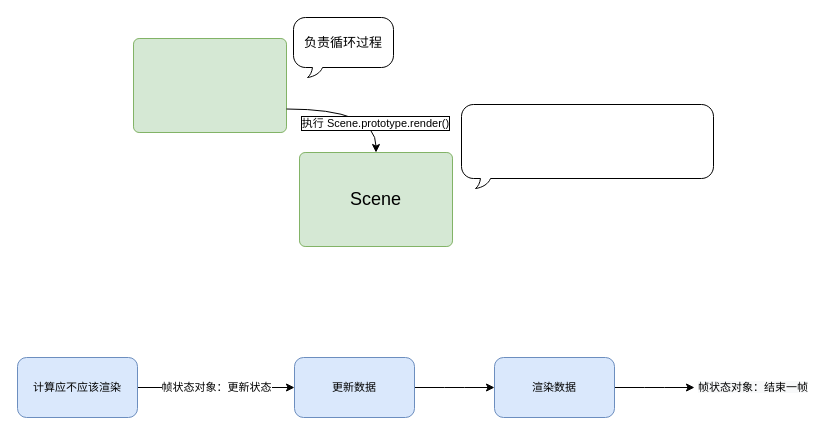
Image size: 830x438. Some labels were removed from this diagram. Each missing label, with the centre of its shape:
CesiumWidget: (x=209, y=85)
负责调度渲染一帧 （不负责具体渲染工作，仅负责调度）: (x=587, y=146)
